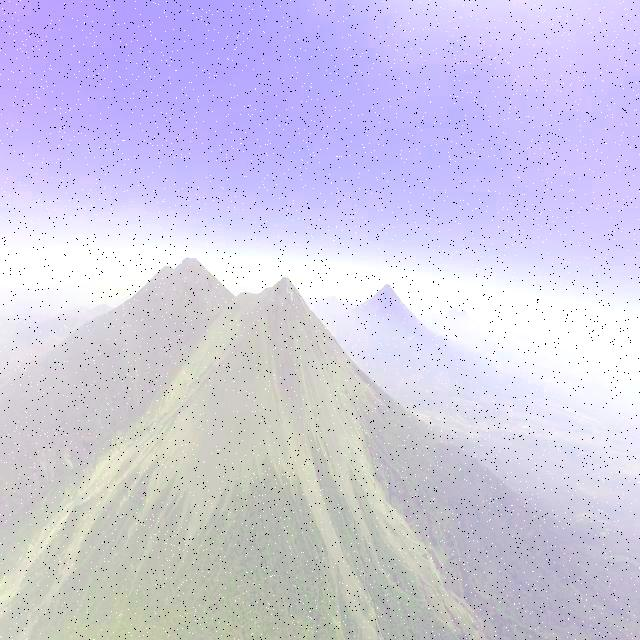Summit: (260, 274, 304, 304)
